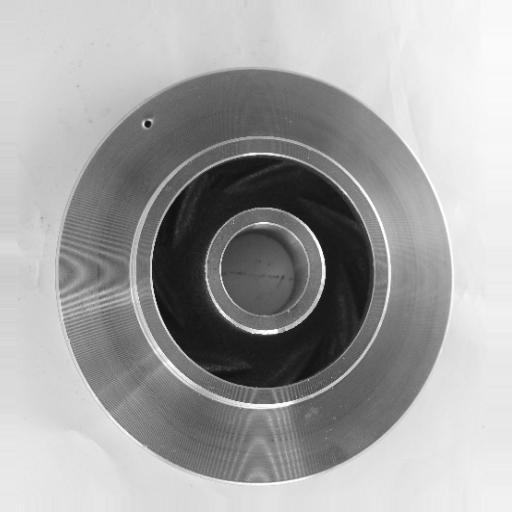pit: (135, 113, 161, 135)
unpolished_casting: (54, 66, 453, 488)
